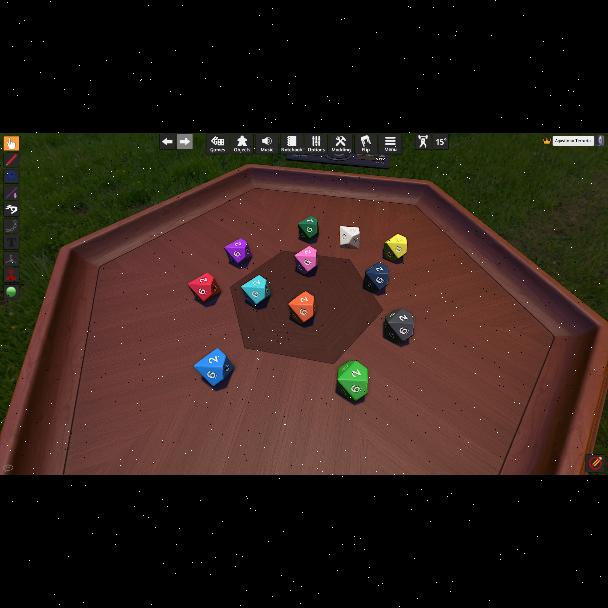d10: (194, 346, 234, 386), (337, 361, 368, 402), (383, 309, 413, 343), (188, 272, 221, 302), (242, 274, 272, 306), (288, 291, 314, 325), (364, 262, 389, 292), (224, 238, 250, 264), (383, 234, 407, 262), (295, 246, 317, 274), (298, 216, 318, 241), (339, 226, 359, 248)
